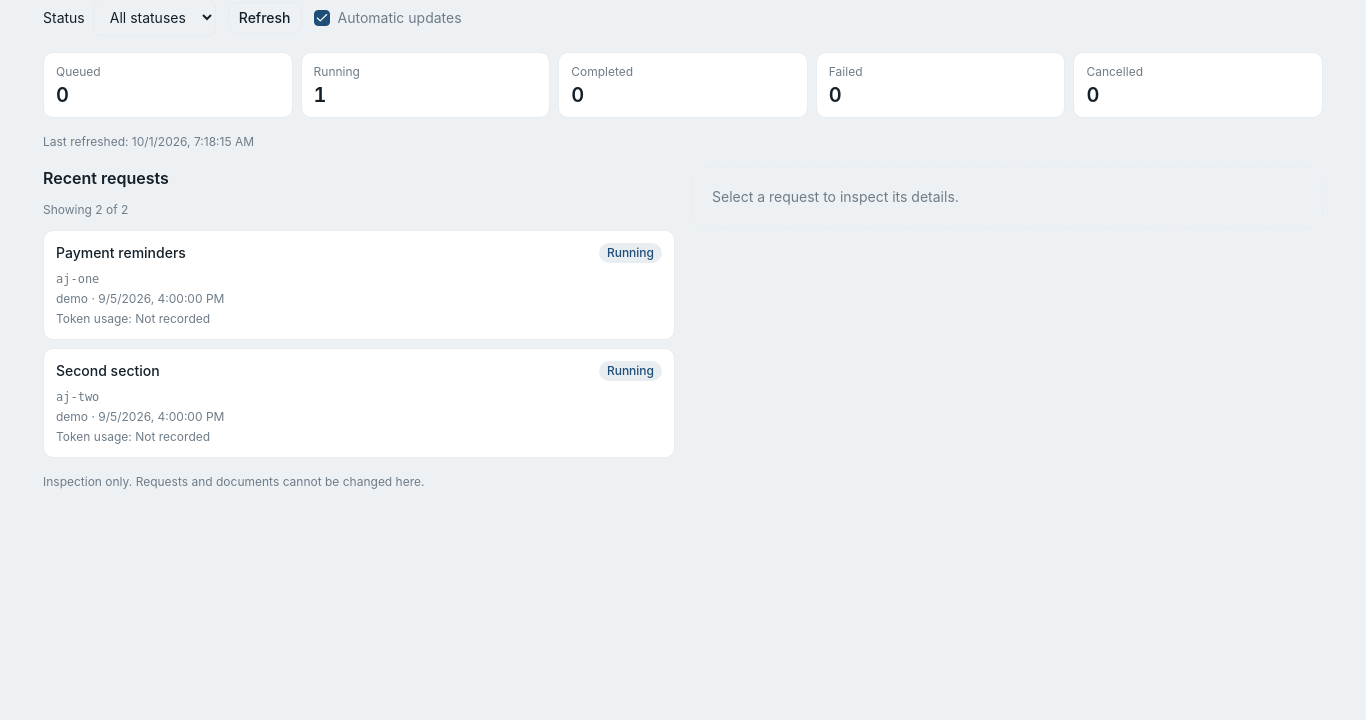
Scenario: Agent queue inspector › does not replace the selected detail with a late response from a previous selection
Click the button "Payment reminders": (121, 253) x1=43 y1=230 x2=675 y2=340
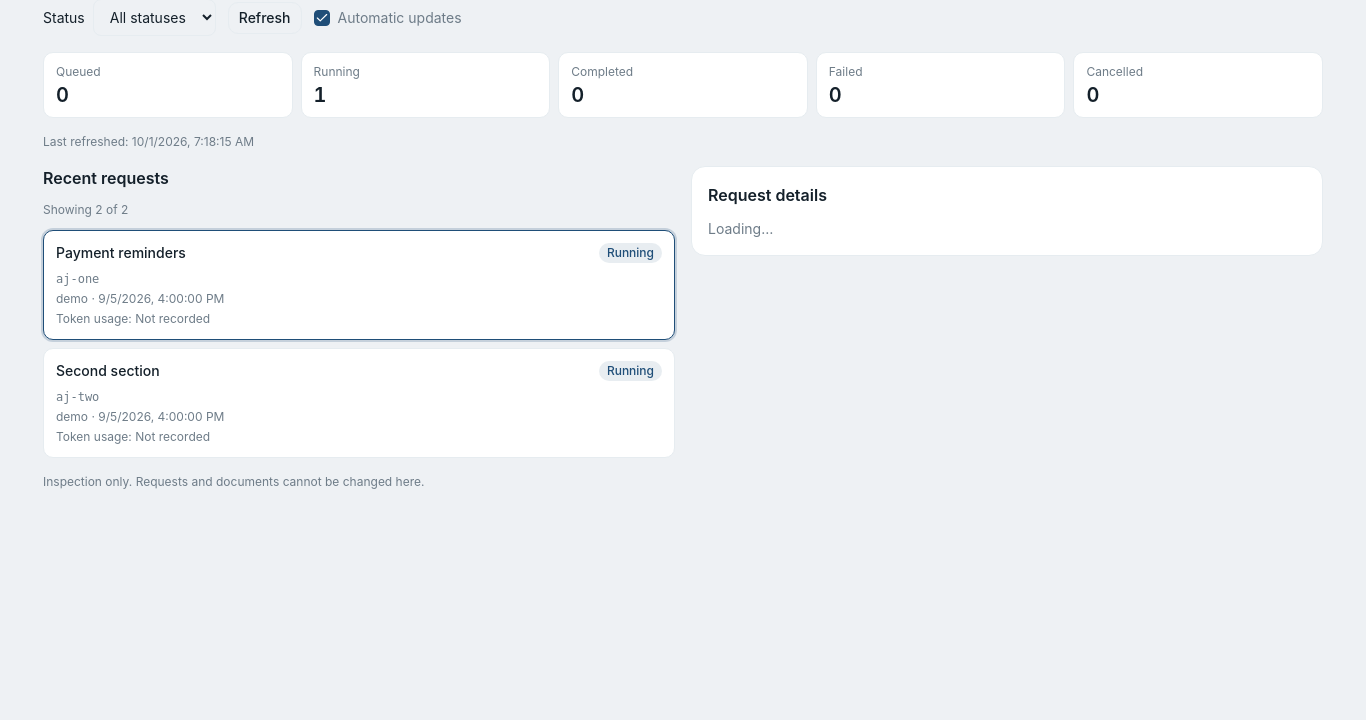
Click the button "Second section": (108, 371) x1=43 y1=348 x2=675 y2=458
(page scrolled)
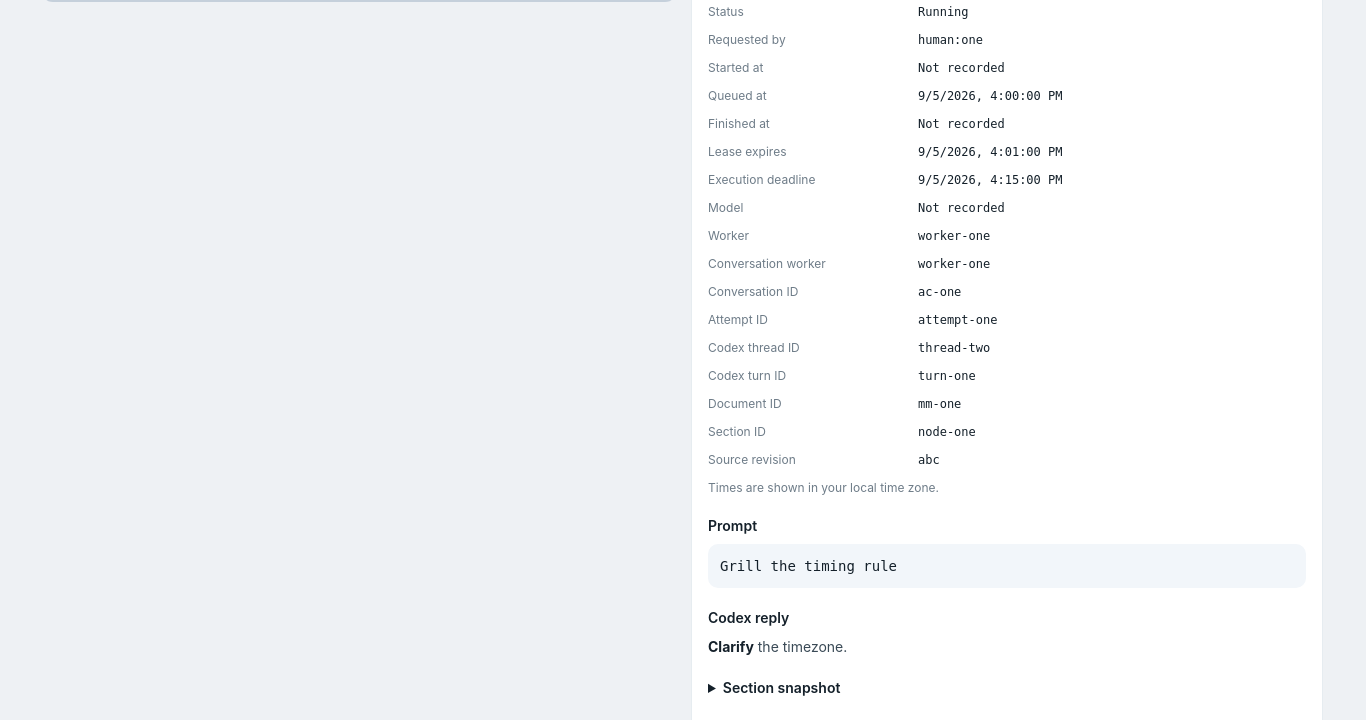
Check: the text "thread-two" is shown, box x1=918 y1=341 x2=990 y2=355
